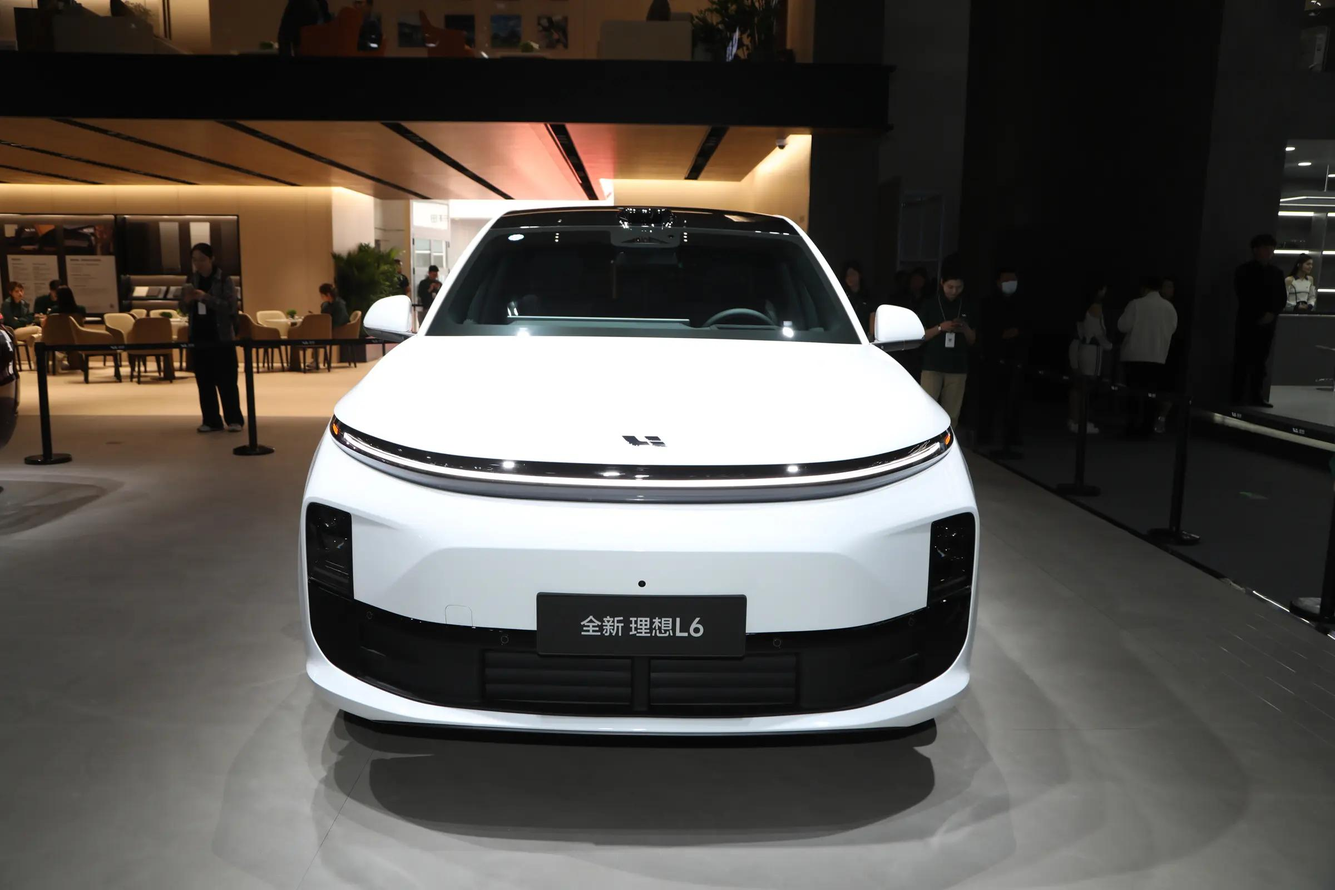Li Auto: (621, 435, 667, 448)
